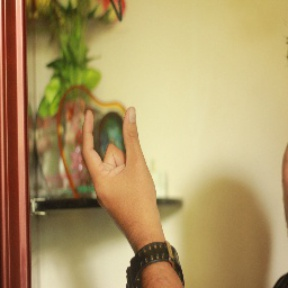U: (71, 93, 158, 215)
